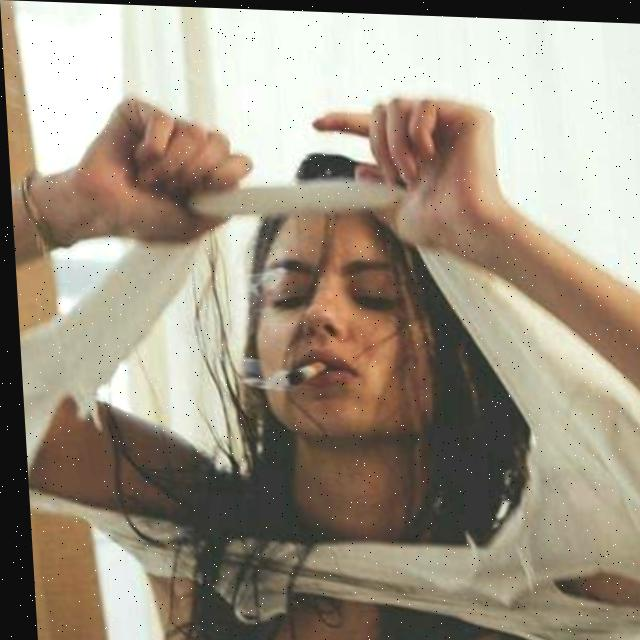cigarette: (281, 357, 324, 384)
